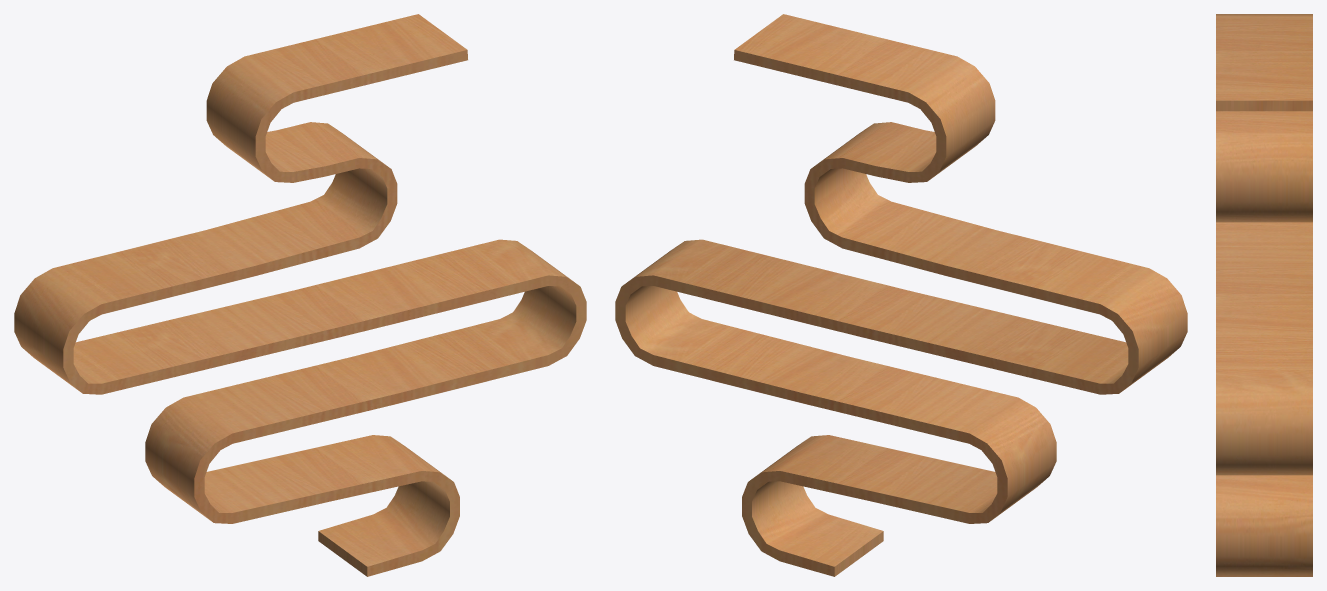
Rendered from Shelf2.b.fbx.
3 renders of one model, left to right at view 1: azimuth 30°, elevation 25°; view 2: azimuth 150°, elevation 25°; view 3: azimuth 270°, elevation 25°, orthographic.
Visible parts, largest first — view 1: s4studio_mesh_0; view 2: s4studio_mesh_0; view 3: s4studio_mesh_0.
Boxes of the visible parts, x1,y1,x2,y2 form: s4studio_mesh_0: [14, 14, 586, 576]; s4studio_mesh_0: [615, 14, 1187, 576]; s4studio_mesh_0: [1216, 14, 1312, 576].
Bounding box in the file's own units: 70.39 × 64.65 × 11.43.
1 material, 1 textured.
